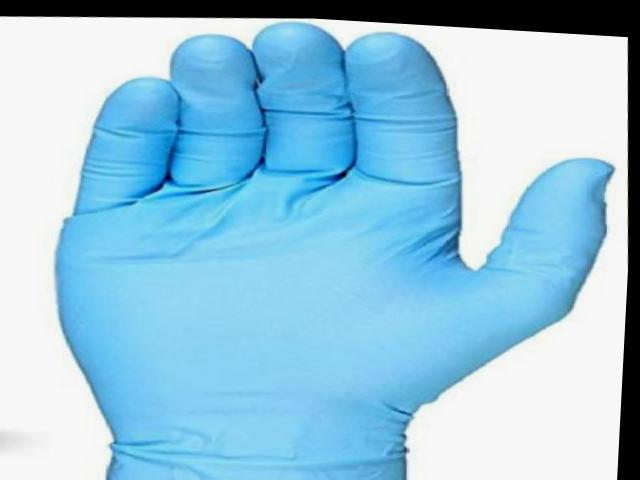Hand-in-Glove: (27, 2, 640, 480)
